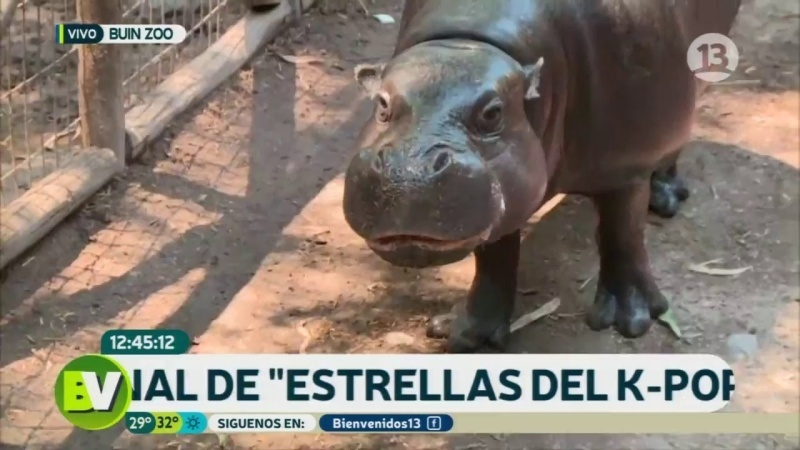hipopotamo: (333, 1, 756, 349)
